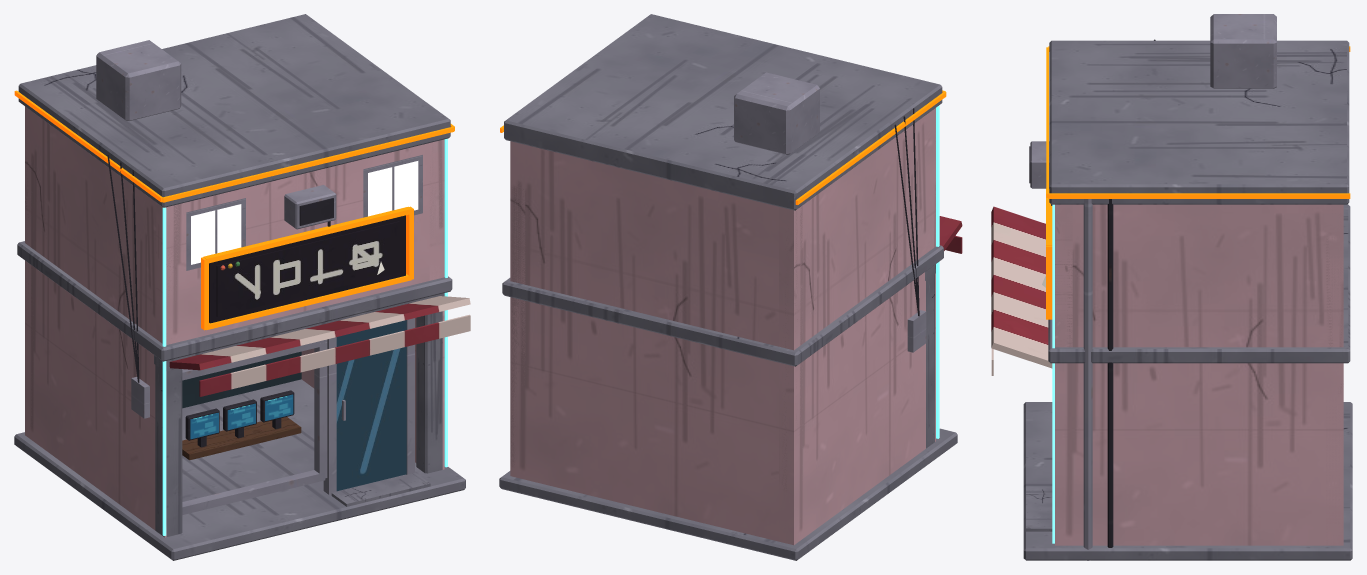
File: servico_web-designer.glb
3 renders of one model, left to right at view 1: azimuth 30°, elevation 25°; view 2: azimuth 150°, elevation 25°; view 3: azimuth 270°, elevation 25°, orthographic. The views are drawn at different scales.
Parts seen in each view (by area): view 1: servico_web-designer; view 2: servico_web-designer; view 3: servico_web-designer.
Boxes of the visible parts, bbox=[...] form: servico_web-designer: bbox=[14, 14, 470, 560]; servico_web-designer: bbox=[499, 14, 962, 560]; servico_web-designer: bbox=[991, 14, 1352, 560].
Size of the model in its own units: 3.18 by 4.2 by 3.25.
Materials: 6 (3 with a texture image).
